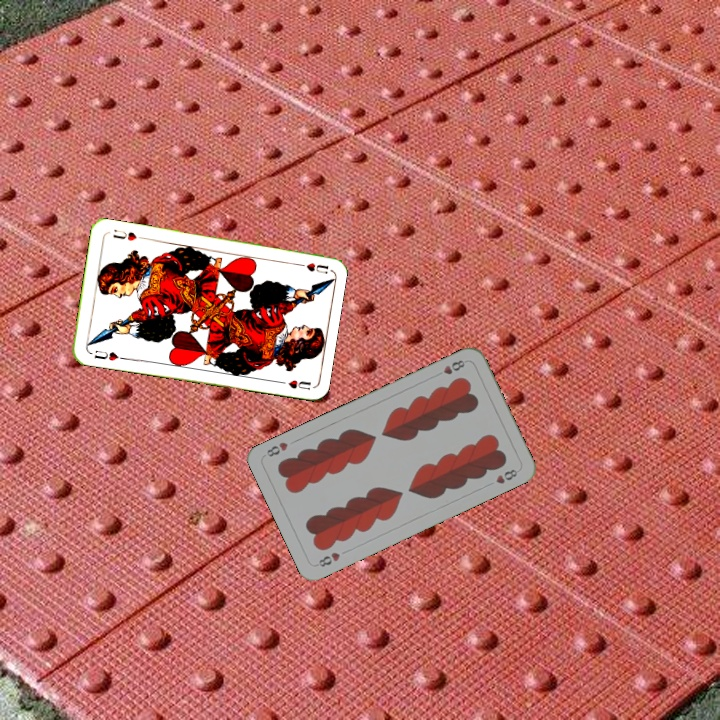H8: (431, 356, 467, 379), (312, 548, 343, 569)
HU: (291, 259, 331, 276), (90, 346, 127, 363)
